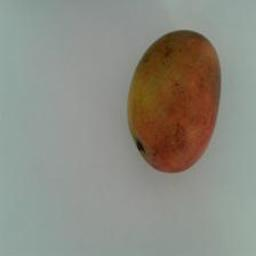Mango Semifresh: (122, 15, 228, 194)
